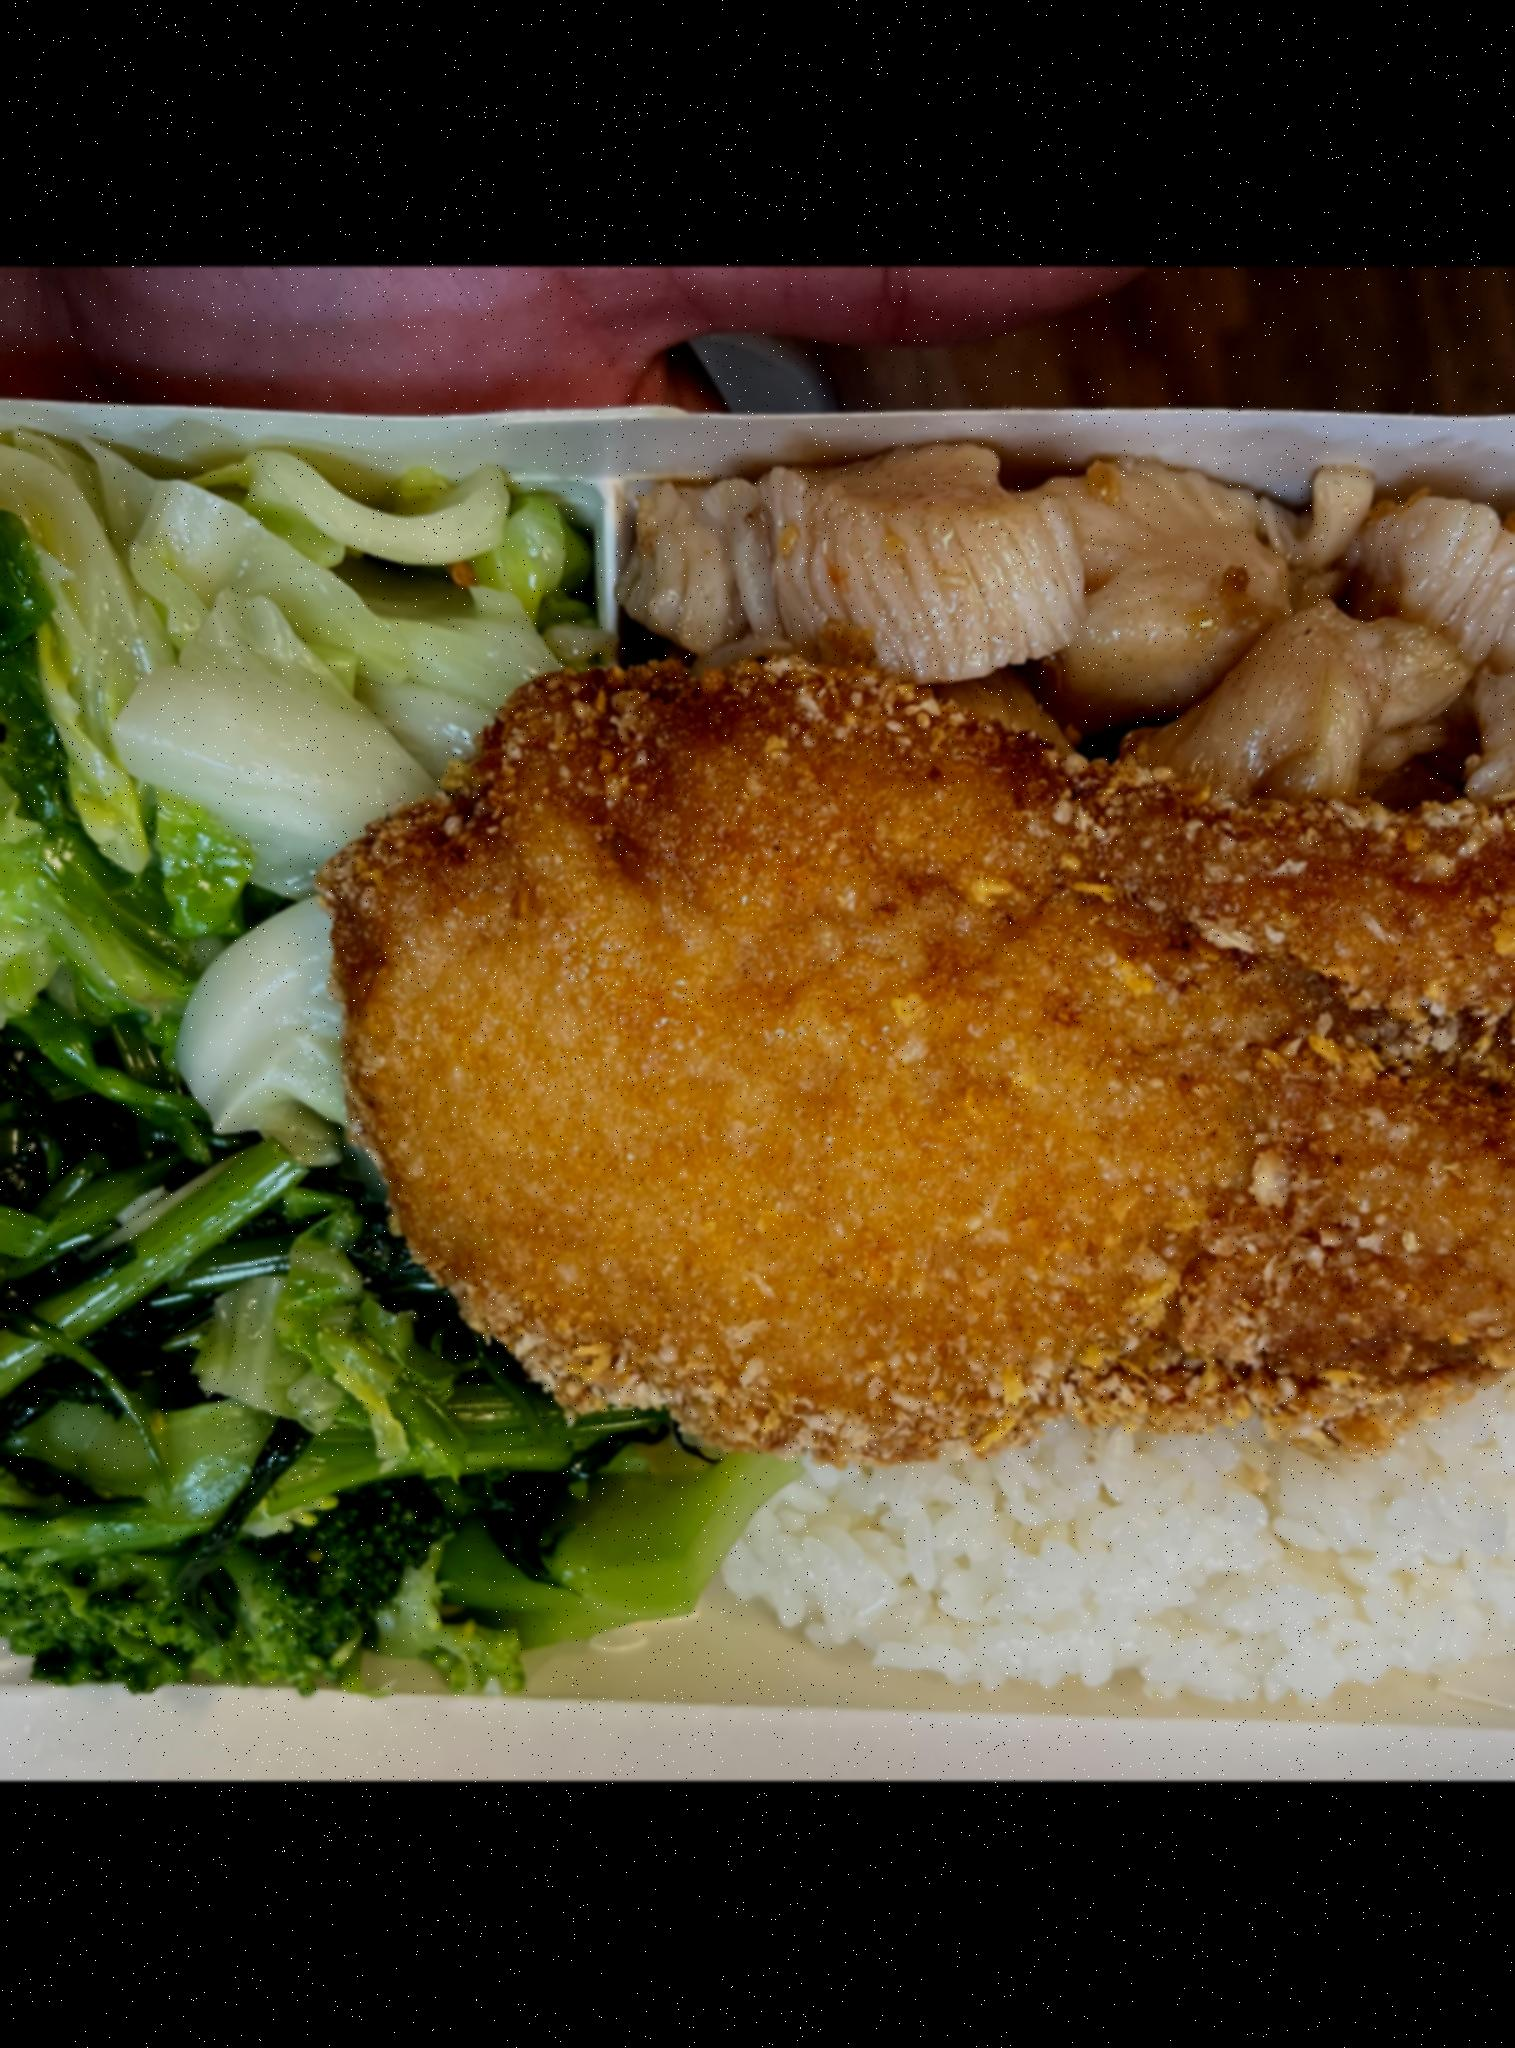box: (0, 350, 1515, 1766)
chicken steak: (325, 652, 1515, 1453)
scallion chicken: (632, 422, 1515, 837)
side dish: (0, 983, 710, 1725), (0, 457, 582, 996)
white rice: (692, 1361, 1515, 1723)
